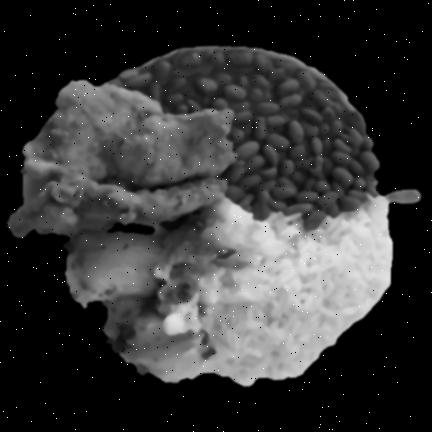beans: (114, 48, 378, 220)
cassava: (66, 233, 205, 381)
chicken: (8, 80, 236, 237)
rice: (205, 197, 392, 385)
